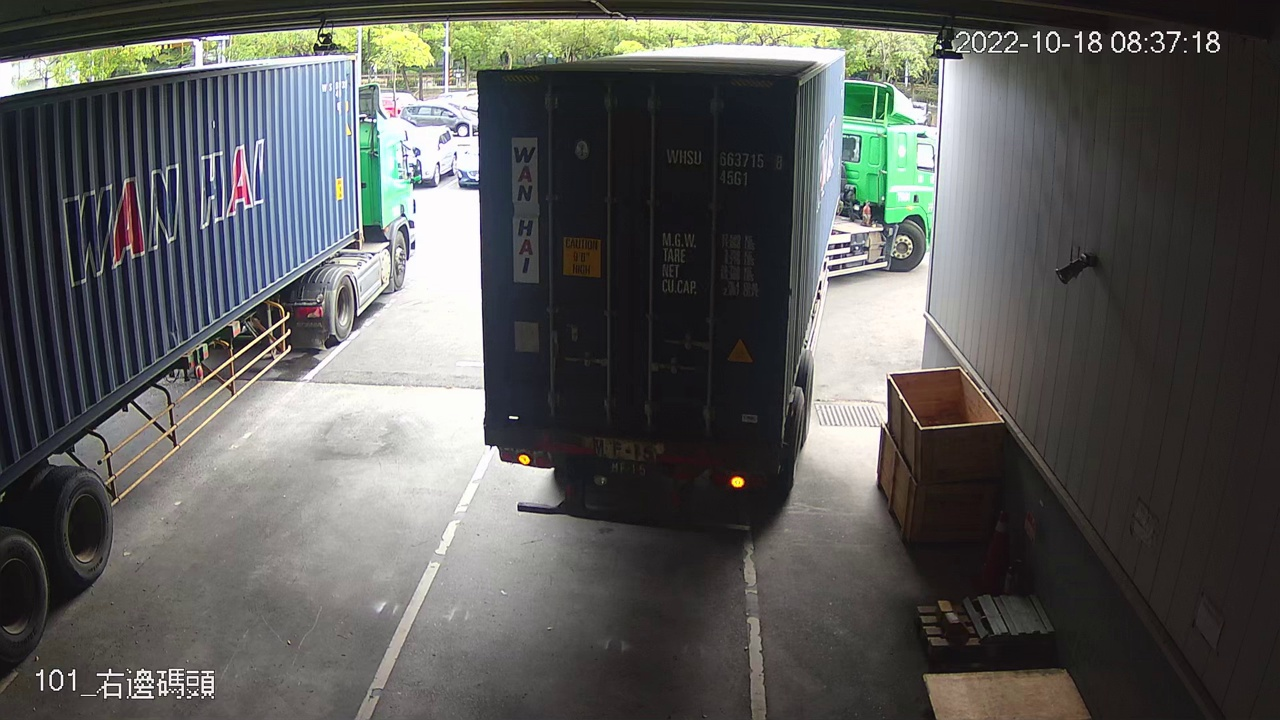container: (661, 142, 786, 191)
